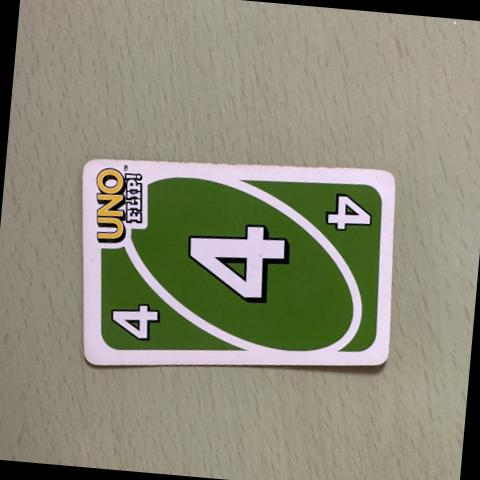lgreen-4: (92, 280, 178, 360)
